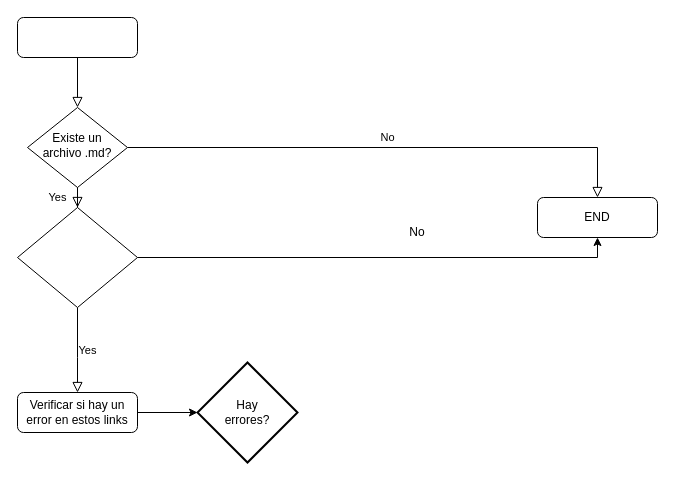
This 675x481 diagram has some shape labels left out. Each missing label, with the centre of its shape:
"Existe links en este archivo?" goes at (x=77, y=257).
"START" goes at (x=77, y=37).
